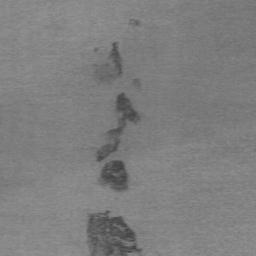Iron scale compression: (96, 92, 140, 192), (87, 211, 143, 256), (94, 41, 124, 83), (132, 78, 142, 91), (128, 18, 140, 28)
